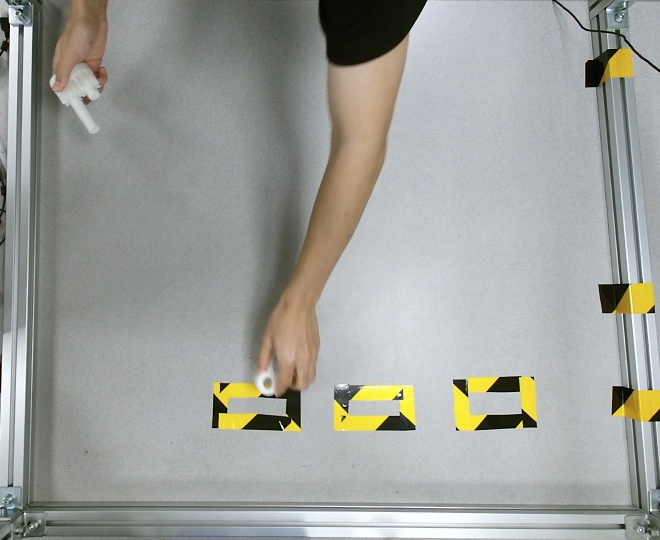stage_3: (49, 64, 101, 134)
